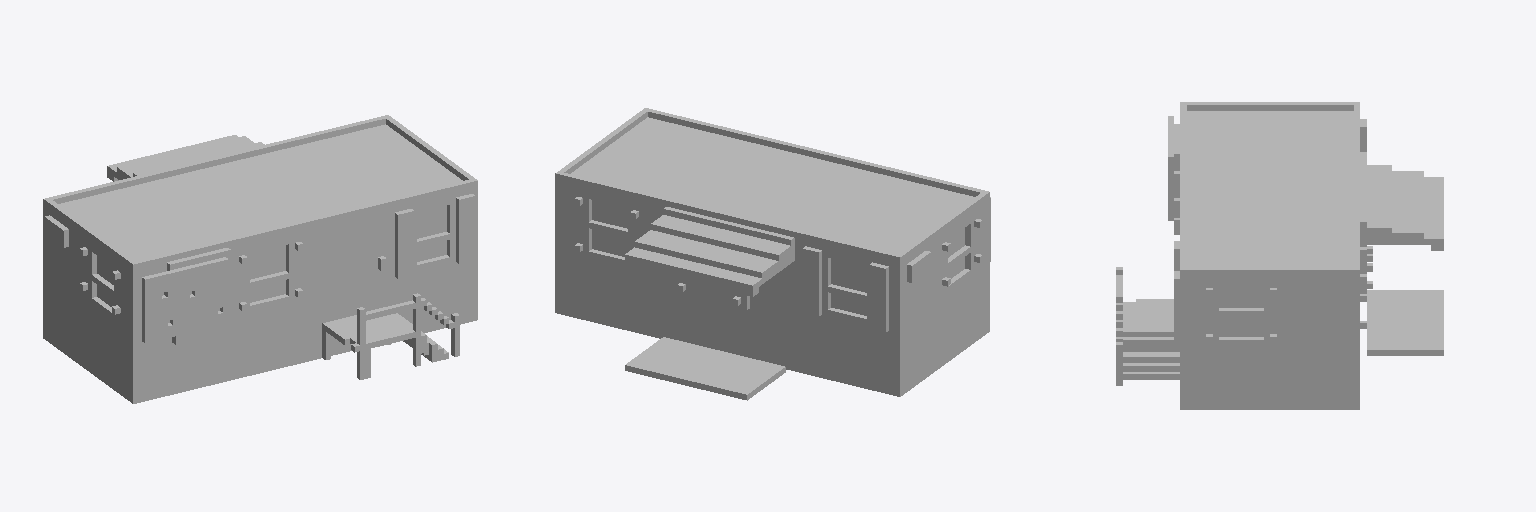
Rendered from obj_house6.obj.
3 renders of one model, left to right at view 1: azimuth 30°, elevation 25°; view 2: azimuth 150°, elevation 25°; view 3: azimuth 270°, elevation 25°, orthographic.
Parts seen in each view (by area): view 1: object 1; view 2: object 1; view 3: object 1.
Part boxes in pixels (left/top/right/bottom): object 1: left=43, top=115, right=477, bottom=403; object 1: left=555, top=108, right=990, bottom=400; object 1: left=1116, top=102, right=1443, bottom=409.
Bounding box in the file's own units: 6.4 × 2.4 × 5.1.